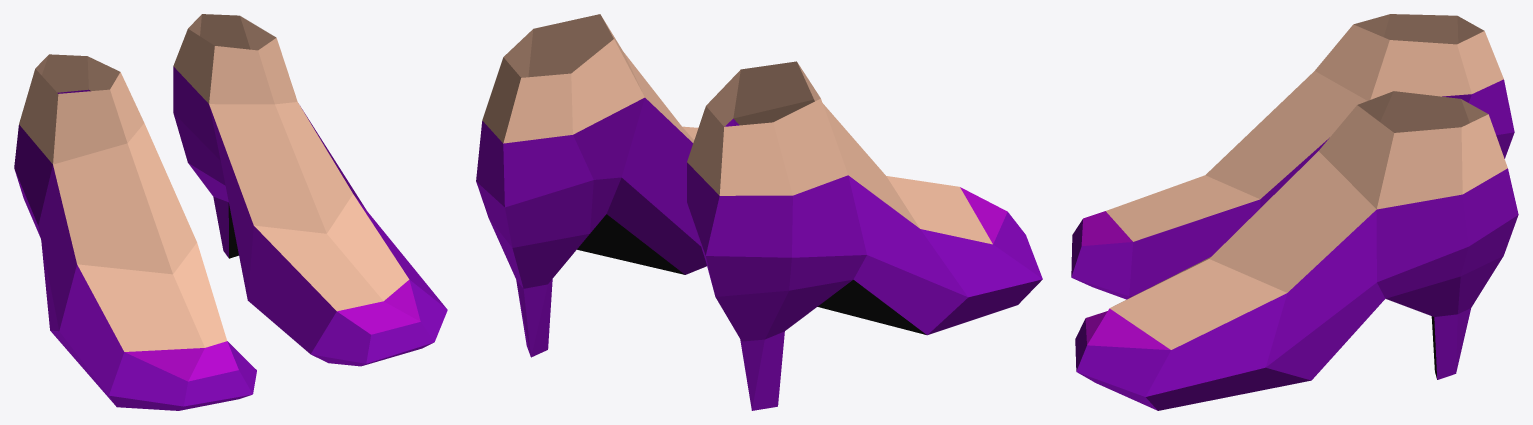
The model's file is highheels.fbx.
The picture shows the model from 3 angles, left to right: view 1: azimuth 30°, elevation 25°; view 2: azimuth 150°, elevation 25°; view 3: azimuth 270°, elevation 25°; orthographic projection. The views are drawn at different scales.
Visible parts, largest first — view 1: casual_Female_G.001, casual_Female_G.002; view 2: casual_Female_G.001, casual_Female_G.002; view 3: casual_Female_G.002, casual_Female_G.001.
Part boxes in pixels (x1,y1,x2,y2): casual_Female_G.001: (14, 54, 256, 410); casual_Female_G.002: (173, 14, 447, 366); casual_Female_G.001: (687, 61, 1042, 410); casual_Female_G.002: (476, 14, 706, 357); casual_Female_G.002: (1075, 91, 1518, 410); casual_Female_G.001: (1071, 14, 1514, 299).
Size of the model in its own units: 25.42 by 16.9 by 25.76.
